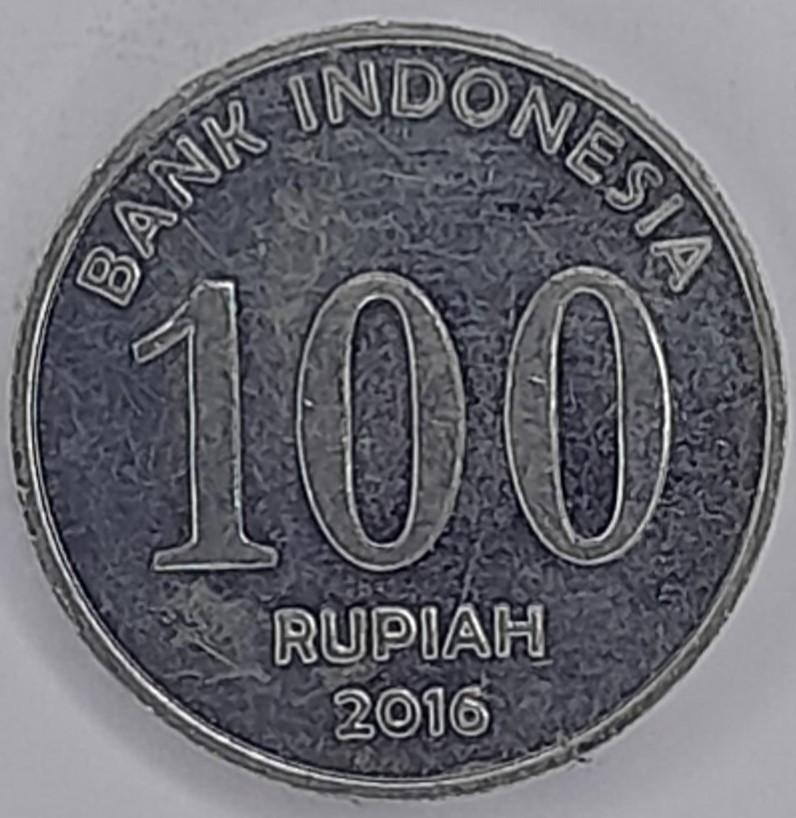coin_100_e2016: (3, 14, 794, 801)
